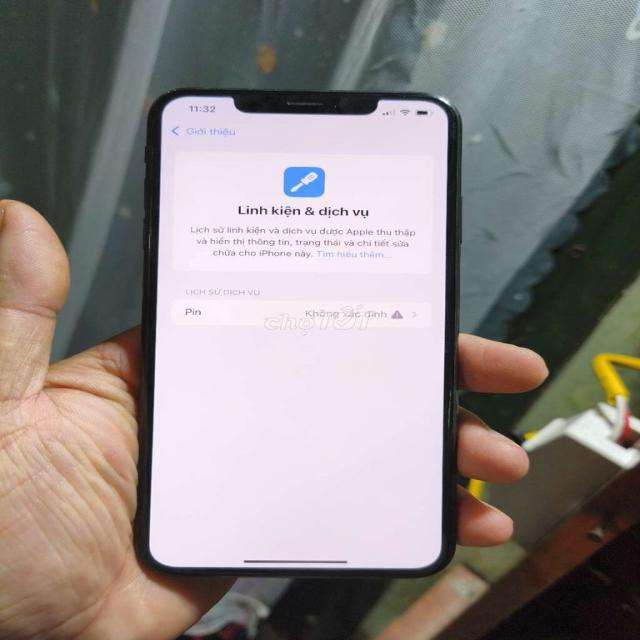gen_x_xs: (138, 83, 460, 584)
